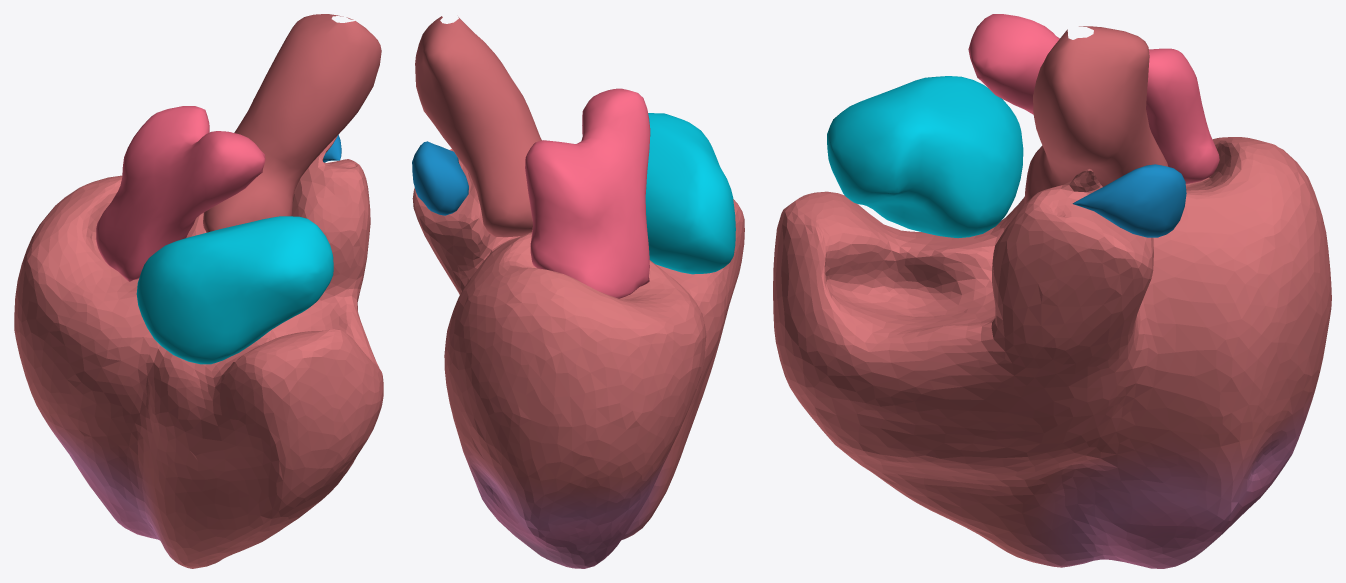
The model's file is frame_3.glb.
3 views of the same model, side by side, from view 1: azimuth 30°, elevation 25°; view 2: azimuth 150°, elevation 25°; view 3: azimuth 270°, elevation 25° (orthographic). The views are drawn at different scales.
Parts seen in each view (by area): view 1: Renderer Node; view 2: Renderer Node; view 3: Renderer Node.
Boxes of the visible parts, box(x1,y1,x2,y2) form: Renderer Node: box(14, 14, 383, 568); Renderer Node: box(412, 16, 744, 568); Renderer Node: box(773, 14, 1331, 568).
Bounding box in the file's own units: 102 × 158 × 126.
